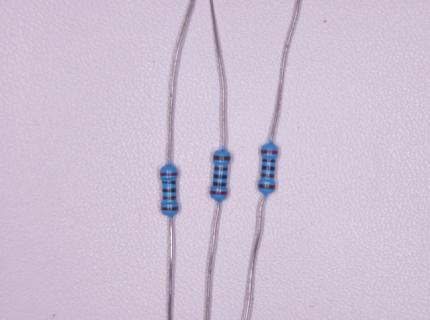Black band: (262, 166, 275, 171), (214, 182, 226, 187), (163, 189, 176, 193), (214, 175, 227, 179), (162, 181, 176, 184), (263, 159, 275, 162)
Brown band: (213, 155, 230, 161), (161, 207, 178, 211), (259, 185, 275, 189), (214, 167, 228, 171), (163, 196, 176, 200), (262, 174, 274, 178)
Red band: (211, 191, 227, 195), (262, 150, 278, 154), (160, 173, 178, 176)
